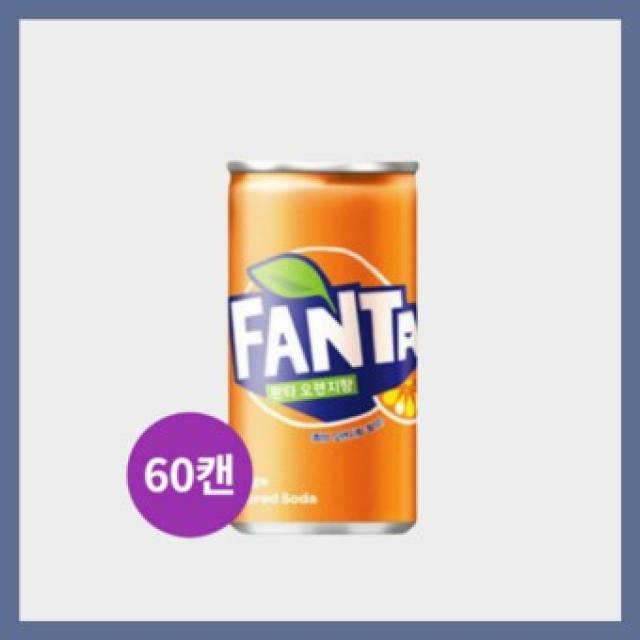can: (221, 164, 419, 543)
